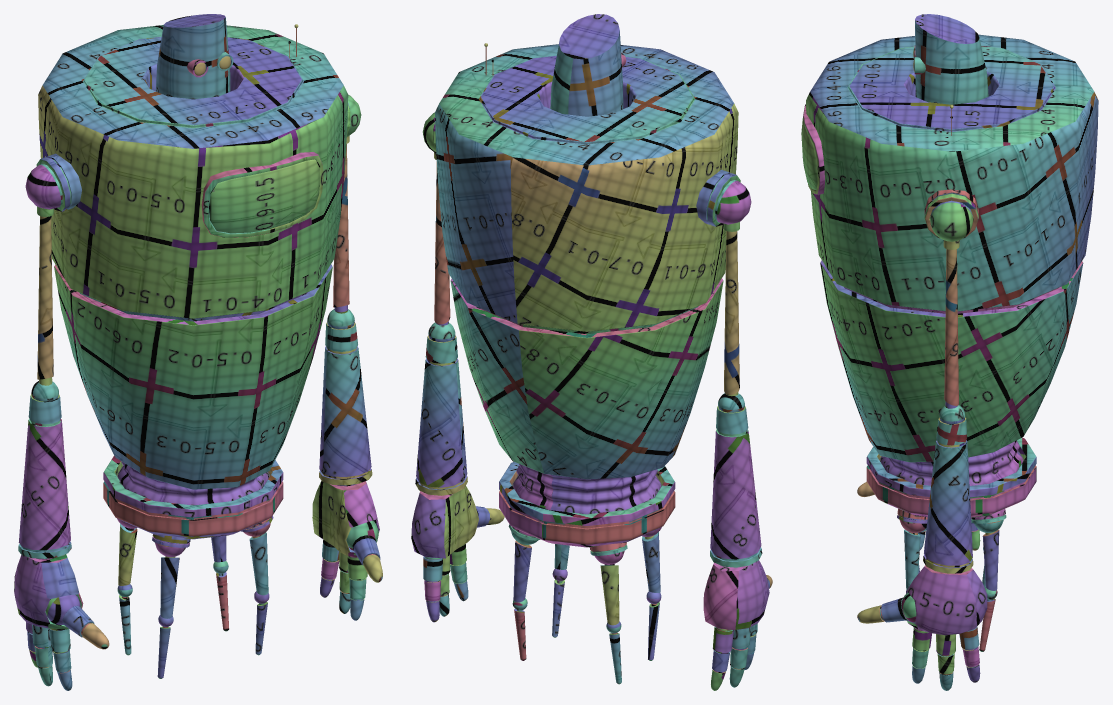
Rendered from robot_UV.fbx.
3 renders of one model, left to right at view 1: azimuth 30°, elevation 25°; view 2: azimuth 150°, elevation 25°; view 3: azimuth 270°, elevation 25°, orthographic. The views are drawn at different scales.
Parts seen in each view (by area): view 1: Torso_Geo, R_Elbow_Geo, Hip_Geo, L_Elbow_Geo, Head_Geo, R_Shoulder_Geo, R_Hand_Geo, L_Hand_Geo, Spine_Geo, L_Shoulder_Geo, R_FT_Thigh_Geo, R_Finger_01_Joint_01_Geo (+7 smaller); view 2: Torso_Geo, Hip_Geo, R_Elbow_Geo, L_Elbow_Geo, Head_Geo, Spine_Geo, R_Hand_Geo, L_Hand_Geo, R_Shoulder_Geo, L_Shoulder_Geo, R_BK_Thigh_Geo, L_BK_Thigh_Geo (+5 smaller); view 3: Torso_Geo, L_Elbow_Geo, Head_Geo, Hip_Geo, L_Hand_Geo, L_Shoulder_Geo, Spine_Geo, L_BK_Thigh_Geo, L_FT_Thigh_Geo, L_Finger_01_Joint_01_Geo, L_BK_Knee_Geo.
Boxes of the visible parts, bbox=[...] form: Torso_Geo: bbox=[36, 24, 350, 489]; R_Elbow_Geo: bbox=[18, 381, 71, 558]; Hip_Geo: bbox=[103, 456, 283, 547]; L_Elbow_Geo: bbox=[319, 309, 372, 485]; Head_Geo: bbox=[155, 14, 233, 99]; R_Shoulder_Geo: bbox=[25, 164, 62, 385]; R_Hand_Geo: bbox=[14, 554, 83, 629]; L_Hand_Geo: bbox=[312, 481, 379, 556]; Spine_Geo: bbox=[118, 461, 268, 505]; L_Shoulder_Geo: bbox=[333, 95, 361, 313]; R_FT_Thigh_Geo: bbox=[155, 543, 185, 618]; R_Finger_01_Joint_01_Geo: bbox=[45, 594, 94, 637]; Torso_Geo: bbox=[433, 43, 740, 479]; Hip_Geo: bbox=[499, 462, 675, 555]; R_Elbow_Geo: bbox=[710, 393, 762, 567]; L_Elbow_Geo: bbox=[415, 322, 467, 495]; Head_Geo: bbox=[550, 14, 626, 116]; Spine_Geo: bbox=[513, 464, 660, 514]; R_Hand_Geo: bbox=[703, 560, 769, 630]; L_Hand_Geo: bbox=[411, 486, 478, 558]; R_Shoulder_Geo: bbox=[715, 180, 751, 396]; L_Shoulder_Geo: bbox=[422, 112, 450, 325]; R_BK_Thigh_Geo: bbox=[594, 551, 624, 625]; L_BK_Thigh_Geo: bbox=[511, 531, 538, 602]; Torso_Geo: bbox=[801, 34, 1098, 462]; L_Elbow_Geo: bbox=[923, 405, 973, 573]; Head_Geo: bbox=[913, 14, 988, 104]; Hip_Geo: bbox=[866, 437, 1036, 523]; L_Hand_Geo: bbox=[907, 565, 987, 635]; L_Shoulder_Geo: bbox=[930, 200, 972, 408]; Spine_Geo: bbox=[880, 440, 1022, 485]; L_BK_Thigh_Geo: bbox=[974, 520, 1003, 590]; L_FT_Thigh_Geo: bbox=[899, 520, 926, 589]; L_Finger_01_Joint_01_Geo: bbox=[881, 592, 916, 622]; L_BK_Knee_Geo: bbox=[979, 587, 997, 651].
Bounding box in the file's own units: 9.14 × 16.07 × 7.1.
Materials: 3 (3 with a texture image).
